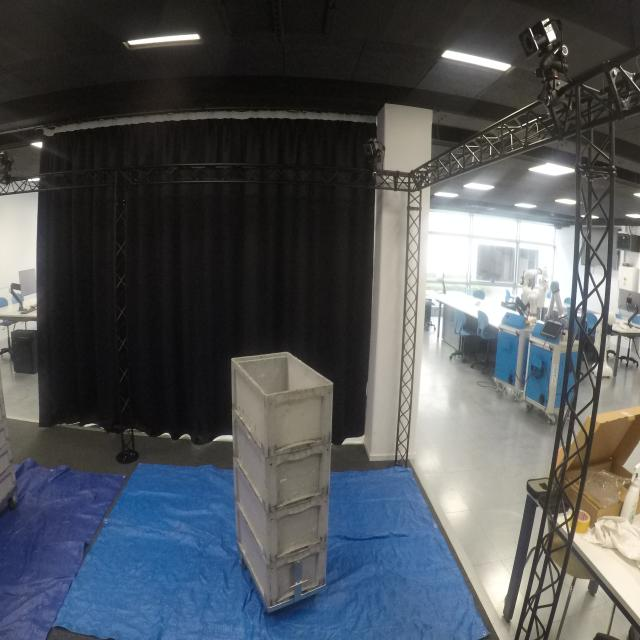Box4G: (228, 349, 336, 458), (232, 456, 337, 564), (230, 411, 333, 512), (234, 503, 330, 608)
